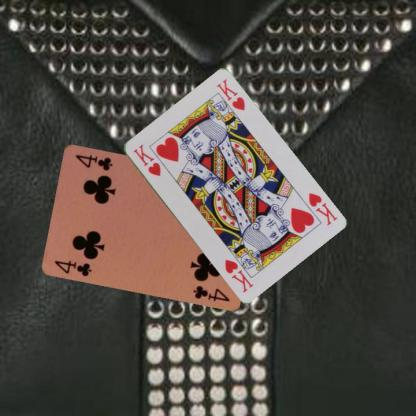4c: (52, 258, 93, 277)
Kh: (305, 190, 339, 228), (130, 142, 162, 178)
